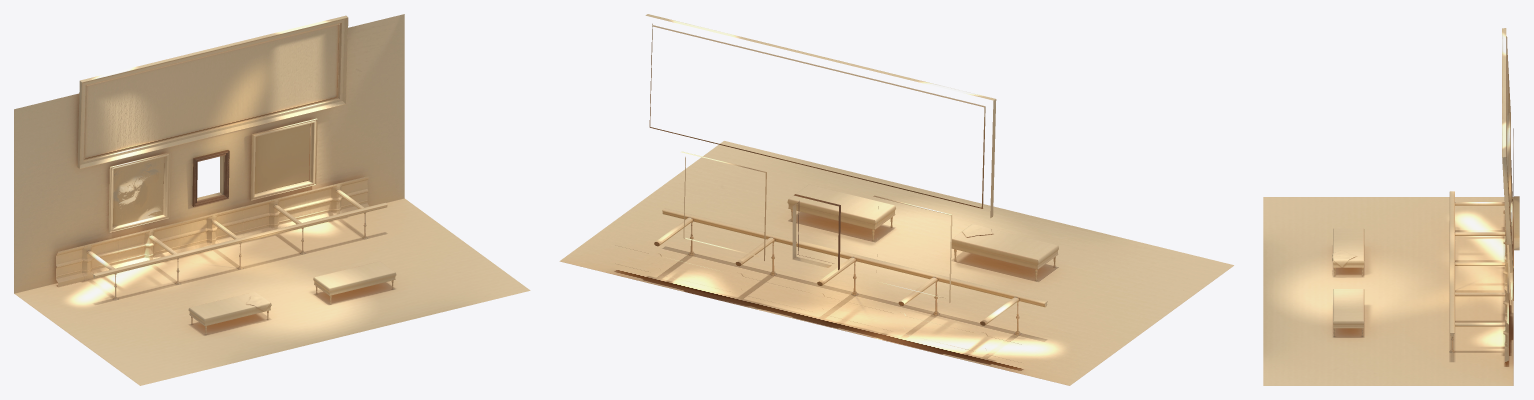
Rendered from louvre.gltf.
The picture shows the model from 3 angles, left to right: view 1: azimuth 30°, elevation 25°; view 2: azimuth 150°, elevation 25°; view 3: azimuth 270°, elevation 25°; orthographic projection. The views are drawn at different scales.
Parts seen in each view (by area): view 1: Bar.001; view 2: Bar.001; view 3: Bar.001.
Part boxes in pixels (left/top/right/bottom): Bar.001: left=14, top=14, right=530, bottom=385; Bar.001: left=559, top=14, right=1233, bottom=385; Bar.001: left=1263, top=28, right=1519, bottom=385.
Bounding box in the file's own units: 11.91 × 5.84 × 6.82.
5 materials, 5 textured.
